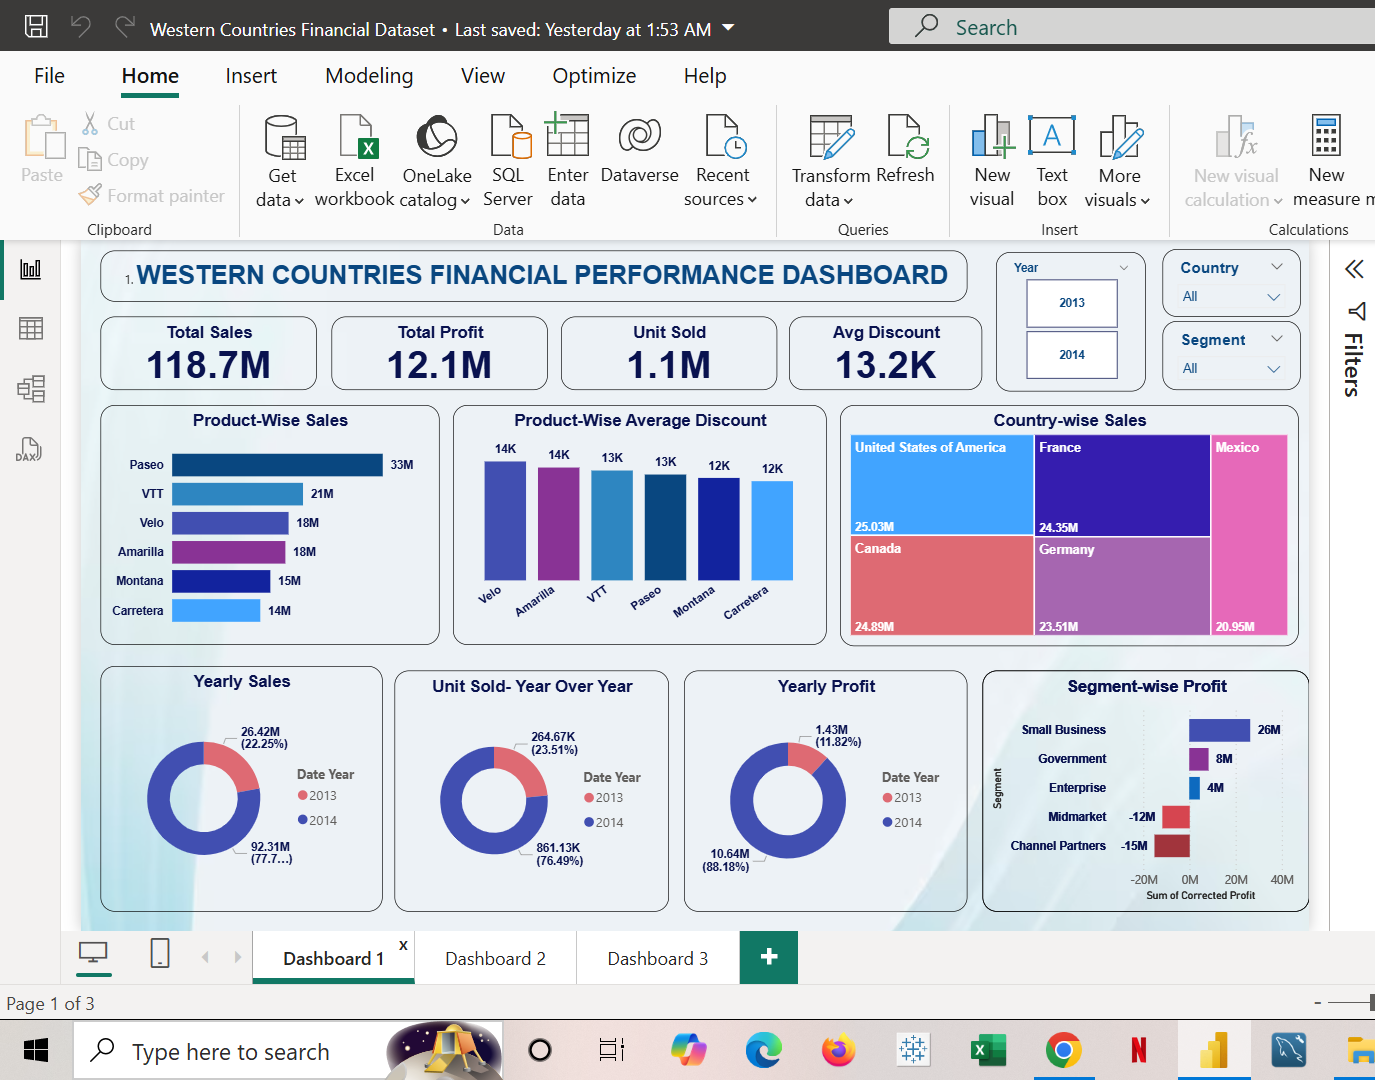

Layout of this report page (visuals, bound fields, positions):
{"tool":"powerbi","page":{"name":"Dashboard 1","canvas":[1280,720],"ordinal":0},"visuals":[{"type":"clusteredBarChart","title":"Product-Wise Sales","fields":{"Category":["Sheet1.Product"],"Y":["Sum(Sheet1. Sales)"]},"box":[20.3,171.9,353.2,250.1],"z":0},{"type":"barChart","title":"Segment-wise Profit","fields":{"Category":["Sheet1.Segment"],"Y":["Sum(Sheet1.Corrected Profit)"]},"box":[939.4,448.6,340.7,251.6],"z":1000},{"type":"donutChart","title":"Yearly Sales","fields":{"Category":["Sheet1.Date.Variation.Date Hierarchy.Year"],"Y":["Sum(Sheet1. Sales)"]},"box":[20.3,443.9,293.8,256.3],"z":2000},{"type":"treemap","title":"Country-wise Sales","fields":{"Group":["Sheet1.Country"],"Values":["Sum(Sheet1. Sales)"]},"box":[790.9,171.9,478.3,251.6],"z":3000},{"type":"donutChart","title":"Yearly Profit","fields":{"Category":["Sheet1.Date.Variation.Date Hierarchy.Year"],"Y":["Sum(Sheet1.Corrected Profit)"]},"box":[628.3,448.6,295.4,251.6],"z":4000},{"type":"donutChart","title":"Unit Sold- Year Over Year","fields":{"Category":["Sheet1.Date.Variation.Date Hierarchy.Year"],"Y":["Sum(Sheet1.Units_Sold)"]},"box":[326.7,448.6,286,251.6],"z":5000},{"type":"columnChart","title":"Product-Wise Average Discount","fields":{"Category":["Sheet1.Product"],"Y":["Avg(Sheet1.Discounts)"]},"box":[387.6,171.9,389.2,250.1],"z":6000},{"type":"barChart","title":"Segment-wise Profit","fields":{"Category":["Sheet1.Segment"],"Y":["Sum(Sheet1.Corrected Profit)"]},"box":[939.3,448.6,340.7,251.6],"z":7000},{"type":"textbox","box":[20.3,10.9,903.4,53.1],"z":8000},{"type":"card","title":"Total Sales ","fields":{"Values":["Sum(Sheet1. Sales)"]},"box":[20.3,79.7,225.1,76.6],"z":9000},{"type":"card","title":"Total Profit","fields":{"Values":["Sum(Sheet1.Corrected Profit)"]},"box":[261,79.7,225.1,76.6],"z":10000},{"type":"card","title":"Unit Sold","fields":{"Values":["Sum(Sheet1.Units_Sold)"]},"box":[500.2,79.7,225.1,76.6],"z":11000},{"type":"card","title":"Avg Discount","fields":{"Values":["Avg(Sheet1.Discounts)"]},"box":[737.7,79.7,201.6,76.6],"z":12000},{"type":"slicer","fields":{"Values":["Sheet1.Date.Variation.Date Hierarchy.Year"]},"box":[953.4,12.5,156.3,145.4],"z":13000},{"type":"slicer","fields":{"Values":["Sheet1.Country"]},"box":[1126.9,9.4,143.8,70.3],"z":14000},{"type":"slicer","fields":{"Values":["Sheet1.Segment"]},"box":[1126.9,84.4,143.8,71.9],"z":15000}]}

Visuals, with their boxes on the page's 1280x720 design canvas (x1, y1, x2, y2). These are canvas units, not pixel positions in the 1375x1080 screenshot, which may show the page scaled, cropped or inside an application window:
"Product-Wise Sales" clusteredBarChart: (left=20, top=172, right=374, bottom=422)
"Segment-wise Profit" barChart: (left=939, top=449, right=1280, bottom=700)
"Yearly Sales" donutChart: (left=20, top=444, right=314, bottom=700)
"Country-wise Sales" treemap: (left=791, top=172, right=1269, bottom=424)
"Yearly Profit" donutChart: (left=628, top=449, right=924, bottom=700)
"Unit Sold- Year Over Year" donutChart: (left=327, top=449, right=613, bottom=700)
"Product-Wise Average Discount" columnChart: (left=388, top=172, right=777, bottom=422)
"Segment-wise Profit" barChart: (left=939, top=449, right=1280, bottom=700)
textbox: (left=20, top=11, right=924, bottom=64)
"Total Sales " card: (left=20, top=80, right=245, bottom=156)
"Total Profit" card: (left=261, top=80, right=486, bottom=156)
"Unit Sold" card: (left=500, top=80, right=725, bottom=156)
"Avg Discount" card: (left=738, top=80, right=939, bottom=156)
slicer - Sheet1.Date.Variation.Date Hierarchy.Year: (left=953, top=12, right=1110, bottom=158)
slicer - Sheet1.Country: (left=1127, top=9, right=1271, bottom=80)
slicer - Sheet1.Segment: (left=1127, top=84, right=1271, bottom=156)
